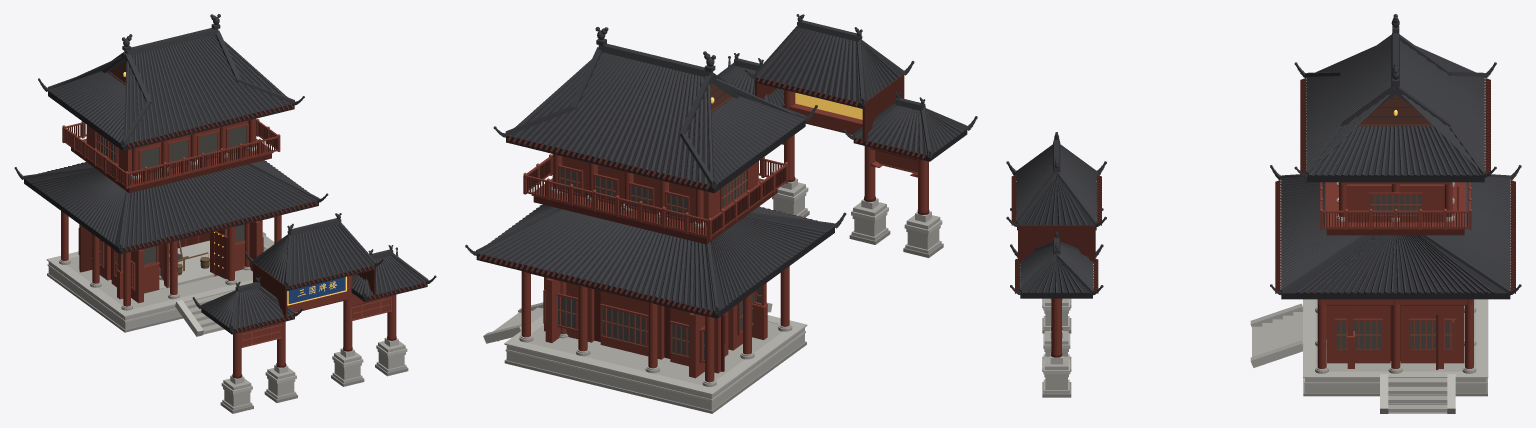
The model's file is paifang.glb.
3 renders of one model, left to right at view 1: azimuth 30°, elevation 25°; view 2: azimuth 150°, elevation 25°; view 3: azimuth 270°, elevation 25°, orthographic. The views are drawn at different scales.
Visible parts, largest first — view 1: 楼_顶前坡_瓦, 楼_腰檐_前坡_瓦, 楼_顶前坡_面, 楼_腰檐_前坡_面, 楼_腰檐_左坡_瓦, 楼_顶左坡_瓦, 牌坊_顶主_前坡_瓦, 楼_台面, 楼_腰檐_左坡_面, 牌坊_顶主_前坡_面, 楼_台基, 牌坊_顶次0_前坡_瓦 (+34 smaller); view 2: 楼_顶后坡_瓦, 楼_腰檐_后坡_瓦, 楼_顶后坡_面, 楼_腰檐_后坡_面, 楼_腰檐_左坡_瓦, 楼_台基, 楼_顶左坡_瓦, 牌坊_顶主_后坡_瓦, 楼_台面, 楼_腰檐_左坡_面, 牌坊_顶主_后坡_面, 牌坊_顶次0_后坡_瓦 (+45 smaller); view 3: 楼_顶前坡_瓦, 楼_顶后坡_瓦, 楼_腰檐_右坡_瓦, 楼_顶右坡_瓦, 楼_腰檐_右坡_面, 楼_腰檐_前坡_瓦, 楼_腰檐_后坡_瓦, 楼_顶右坡_面, 楼_侧墙1_1, 楼_侧墙1_0, 牌坊_封山板1, 楼_平坐板 (+39 smaller).
Boxes of the visible parts, x1,y1,x2,y2 form: 楼_顶前坡_瓦: (124, 35, 292, 144); 楼_腰檐_前坡_瓦: (122, 164, 317, 248); 楼_顶前坡_面: (123, 36, 289, 143); 楼_腰檐_前坡_面: (124, 168, 313, 247); 楼_腰檐_左坡_瓦: (30, 170, 125, 244); 楼_顶左坡_瓦: (49, 71, 125, 143); 牌坊_顶主_前坡_瓦: (289, 224, 373, 285); 楼_台面: (67, 256, 252, 308); 楼_腰檐_左坡_面: (25, 169, 126, 247); 牌坊_顶主_前坡_面: (290, 225, 371, 285); 楼_台基: (48, 262, 181, 329); 牌坊_顶次0_前坡_瓦: (234, 288, 292, 329); 楼_顶后坡_瓦: (508, 52, 712, 185); 楼_腰檐_后坡_瓦: (478, 209, 714, 311); 楼_顶后坡_面: (511, 56, 713, 184); 楼_腰檐_后坡_面: (482, 215, 712, 310); 楼_腰檐_左坡_瓦: (711, 216, 826, 306); 楼_台基: (506, 328, 804, 410); 楼_顶左坡_瓦: (711, 96, 804, 184); 牌坊_顶主_后坡_瓦: (757, 28, 860, 102); 楼_台面: (527, 321, 782, 385); 楼_腰檐_左坡_面: (710, 215, 833, 310); 牌坊_顶主_后坡_面: (760, 28, 858, 101); 牌坊_顶次0_后坡_瓦: (855, 105, 927, 155); 楼_顶前坡_瓦: (1306, 40, 1391, 170); 楼_顶后坡_瓦: (1400, 40, 1485, 170); 楼_腰檐_右坡_瓦: (1296, 235, 1494, 293); 楼_顶右坡_瓦: (1309, 126, 1481, 175); 楼_腰檐_右坡_面: (1284, 235, 1507, 293); 楼_腰檐_前坡_瓦: (1280, 177, 1361, 288); 楼_腰檐_后坡_瓦: (1429, 177, 1510, 288); 楼_顶右坡_面: (1312, 127, 1478, 175); 楼_侧墙1_1: (1400, 305, 1464, 363); 楼_侧墙1_0: (1327, 305, 1390, 363); 牌坊_封山板1: (1018, 225, 1095, 263); 楼_平坐板: (1325, 182, 1466, 229).
Size of the model in its own units: 12.31 by 13.83 by 20.97.
